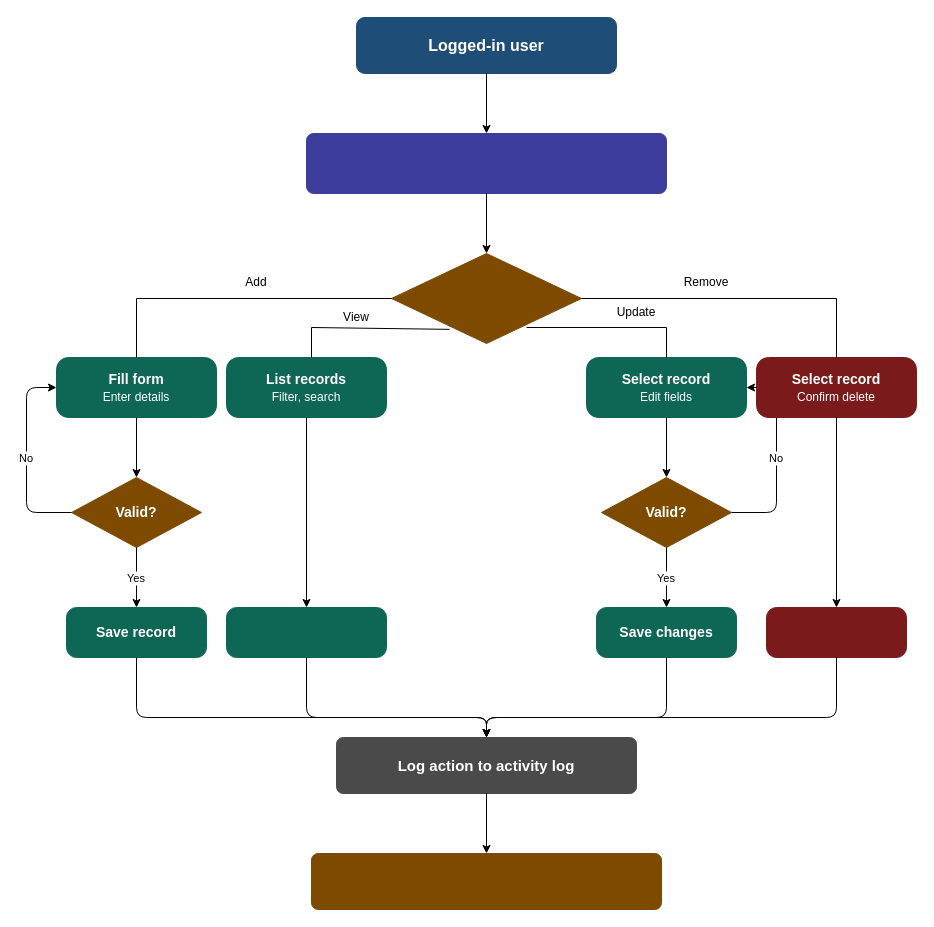
Image size: 934x927. Some labels were removed from this diagram. Each missing label, with the centre of its shape:
Delete record: pixel 836 632
Display detail: pixel 306 632
Select action: pixel 486 298
Select module Devices, Employees, Tickets, KB, Projects, Tasks: pixel 486 163
Trigger alert/notification if needed: pixel 486 881
